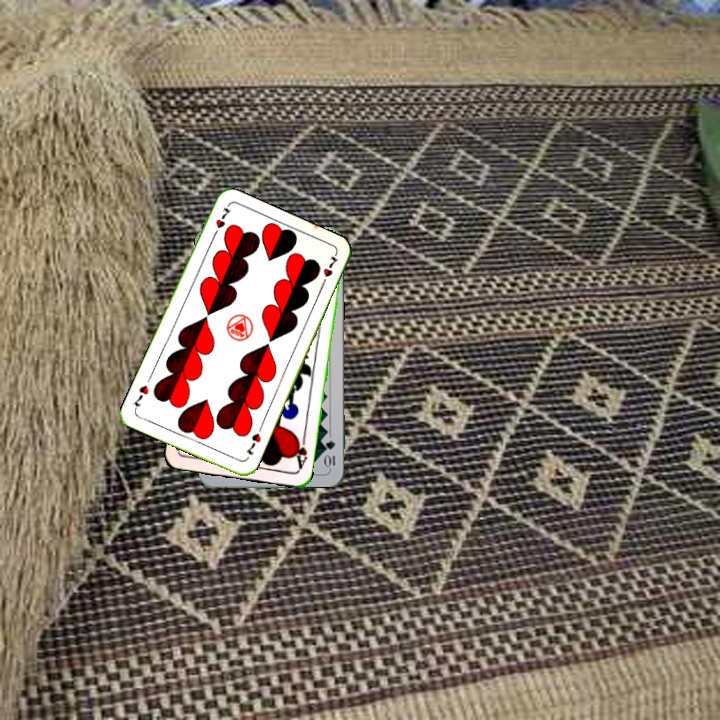G10: (322, 436, 338, 470)
H7: (208, 202, 233, 240), (241, 429, 264, 458)
HA: (290, 431, 310, 472)
